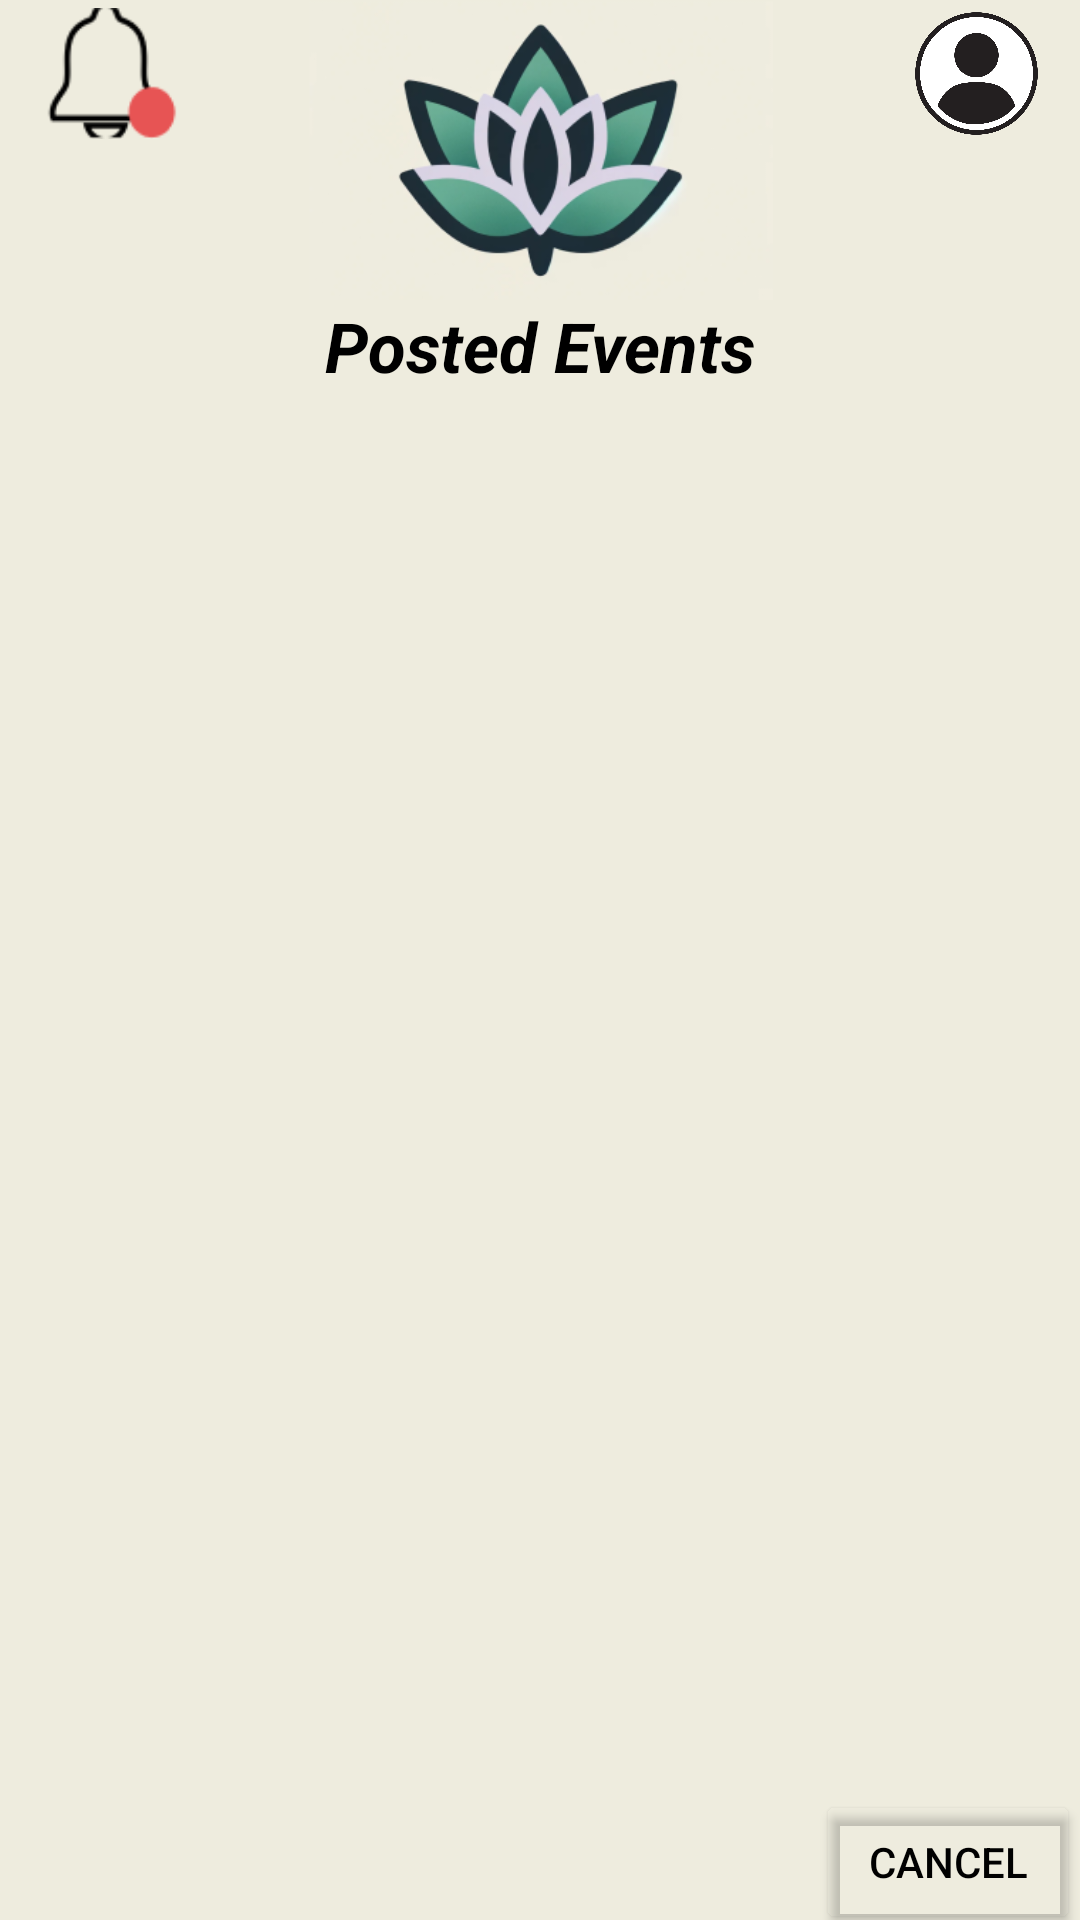

Screen size 1080x1920. Icon name, then its box in pixels as (x1, y1, x2, y2):
notifbell: (48, 8, 176, 139)
